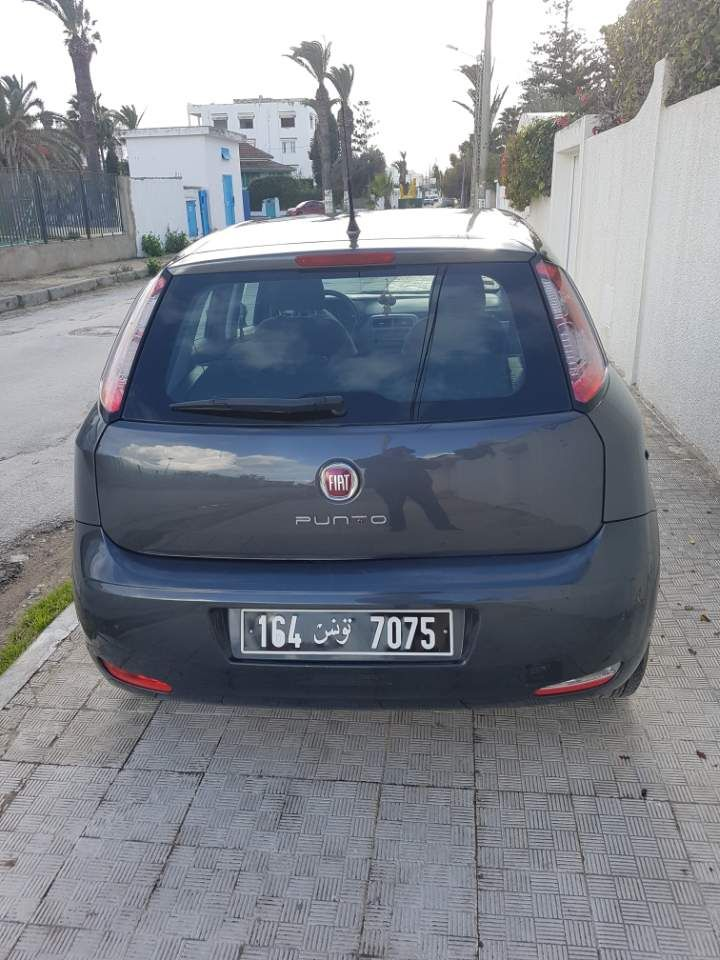LP: (239, 605, 457, 657)
